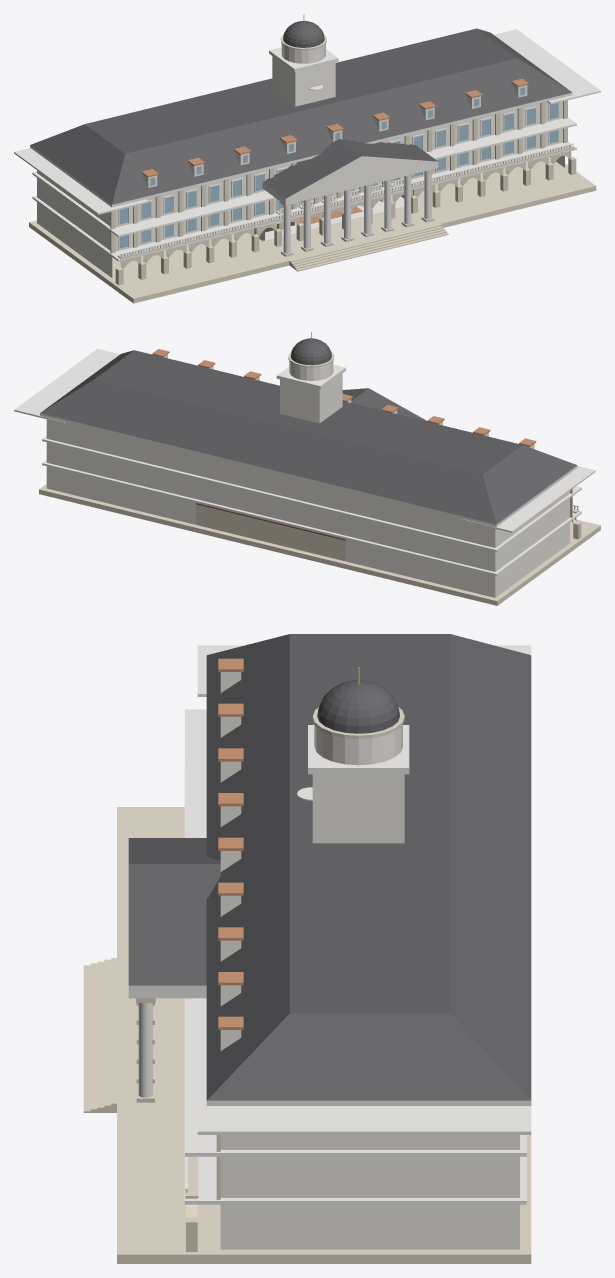
The model's file is E6-7_grande_hotel.fbx.
3 renders of one model, top to bottom at view 1: azimuth 30°, elevation 25°; view 2: azimuth 150°, elevation 25°; view 3: azimuth 270°, elevation 25°, orthographic. The views are drawn at different scales.
Parts seen in each view (by area): view 1: E6-7_grande_hotel; view 2: E6-7_grande_hotel; view 3: E6-7_grande_hotel.
Boxes of the visible parts, left/top/right/bottom form: E6-7_grande_hotel: left=14, top=14, right=600, bottom=303; E6-7_grande_hotel: left=14, top=332, right=600, bottom=605; E6-7_grande_hotel: left=83, top=634, right=531, bottom=1263.
Size of the model in its own units: 100 by 35.71 by 38.9.
